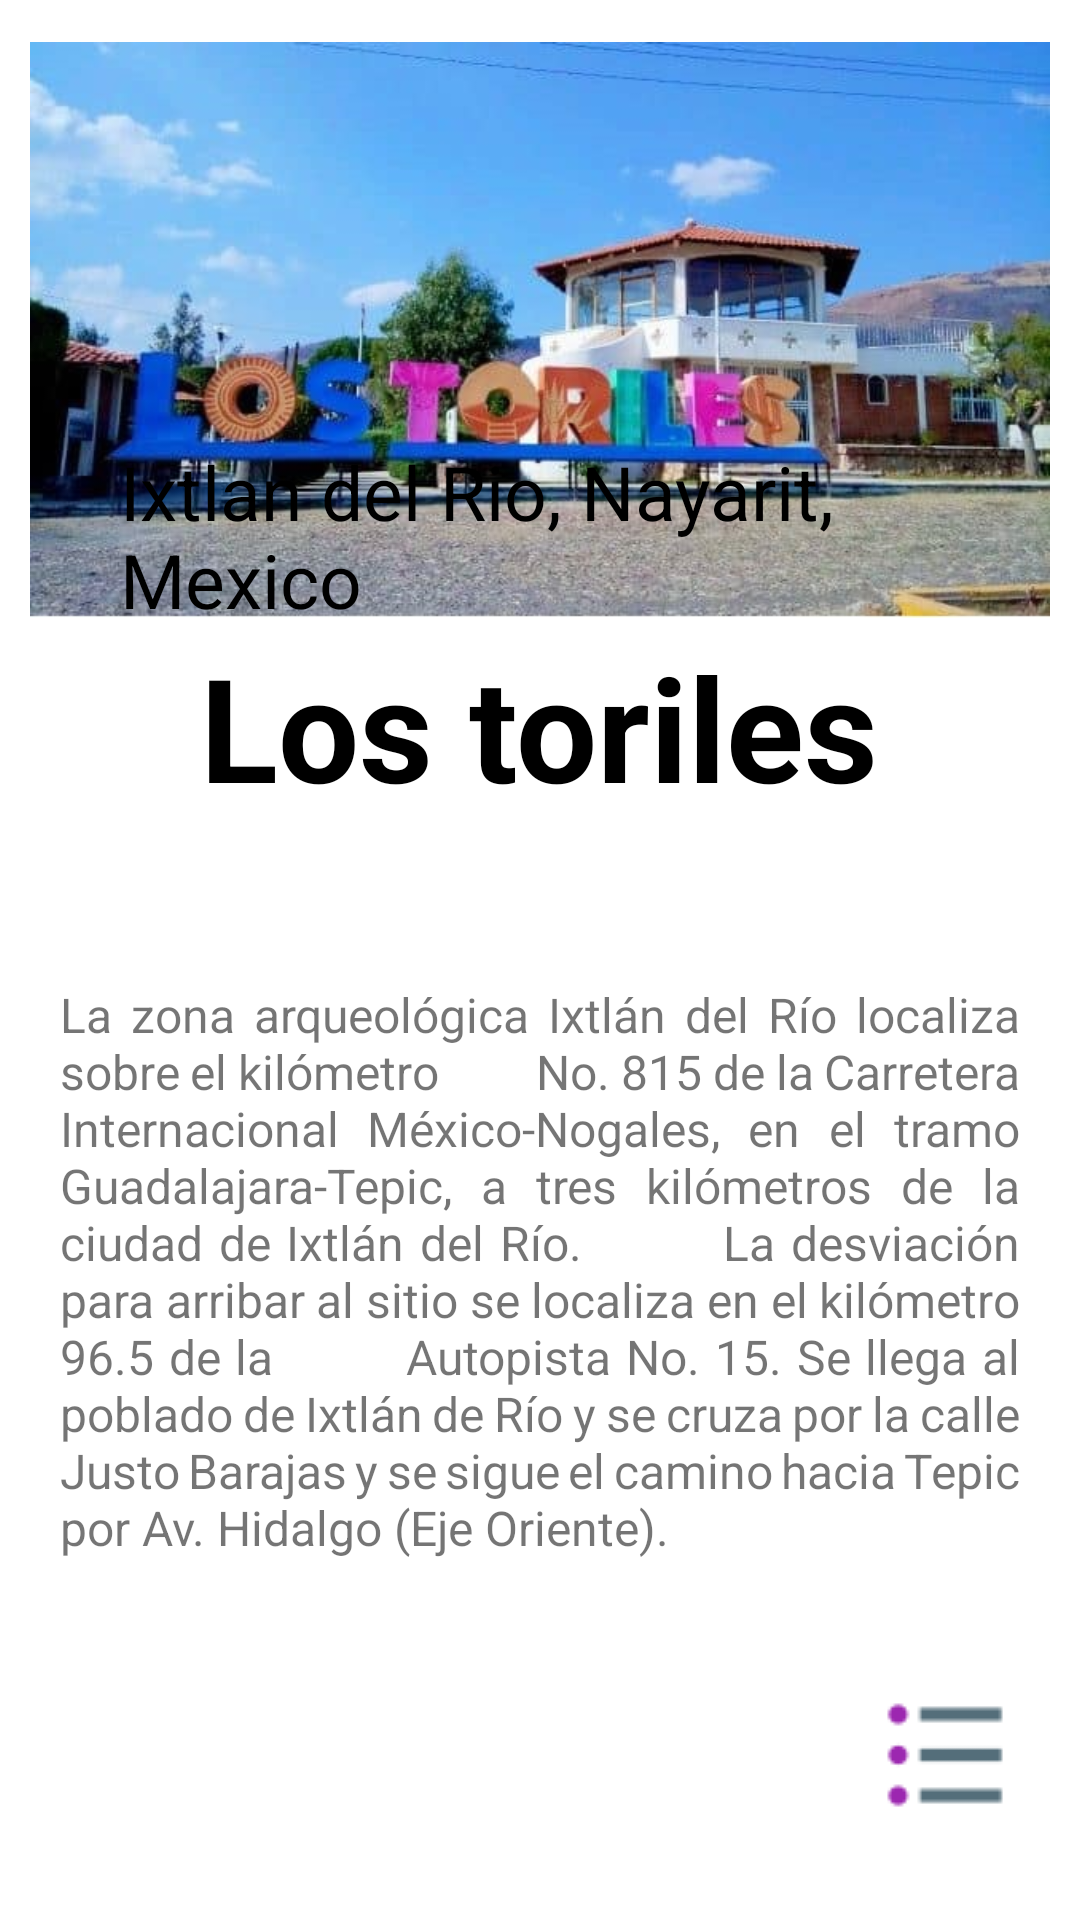

Icon click points for this 1080×1920 phone screenshot, format [x,y]:
puntos: [945,1755]
